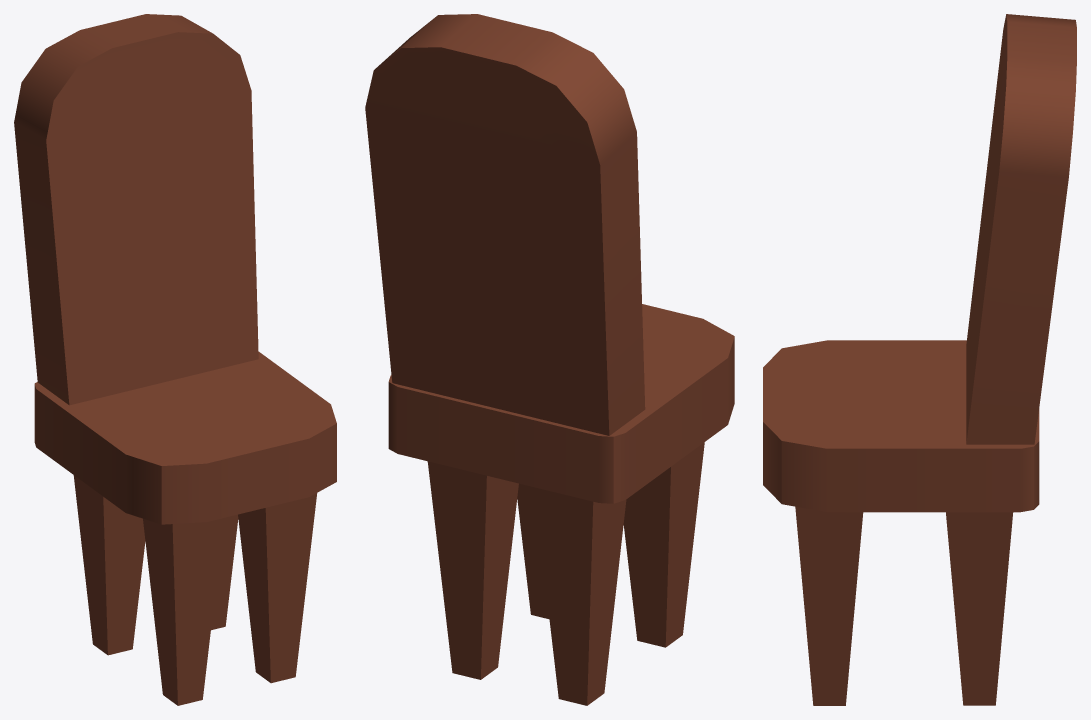
The model's file is chair.fbx.
3 renders of one model, left to right at view 1: azimuth 30°, elevation 25°; view 2: azimuth 150°, elevation 25°; view 3: azimuth 270°, elevation 25°, orthographic. The views are drawn at different scales.
Parts seen in each view (by area): view 1: polySurface215; view 2: polySurface215; view 3: polySurface215.
Part boxes in pixels (box(x1,y1,x2,y2)): polySurface215: box(14, 14, 336, 705); polySurface215: box(365, 14, 734, 705); polySurface215: box(763, 14, 1076, 705).
Size of the model in its own units: 1.42 by 3.89 by 1.74.
